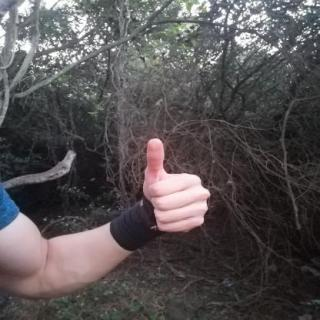ALIF: (128, 131, 220, 244)
